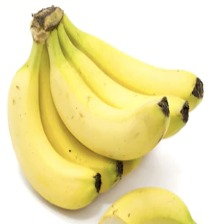banana: (20, 28, 221, 224)
